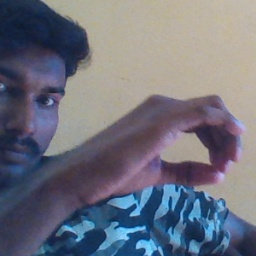O: (71, 81, 244, 199)
